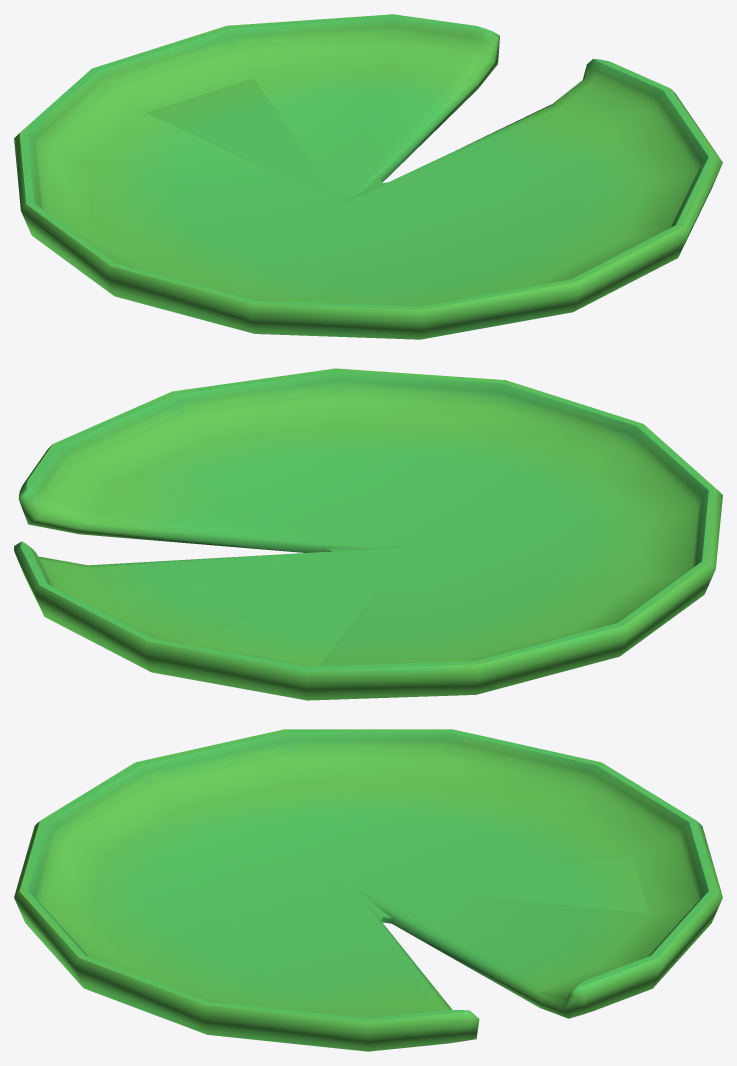
File: LilyPad_2.fbx
3 renders of one model, top to bottom at view 1: azimuth 30°, elevation 25°; view 2: azimuth 150°, elevation 25°; view 3: azimuth 270°, elevation 25°, orthographic. The views are drawn at different scales.
Visible parts, largest first — view 1: Cylinder001; view 2: Cylinder001; view 3: Cylinder001.
Boxes of the visible parts, <box> form: Cylinder001: <box>14,14,722,339</box>; Cylinder001: <box>14,368,722,700</box>; Cylinder001: <box>14,729,722,1051</box>.
Bounding box in the file's own units: 19.51 × 1.31 × 19.65.
